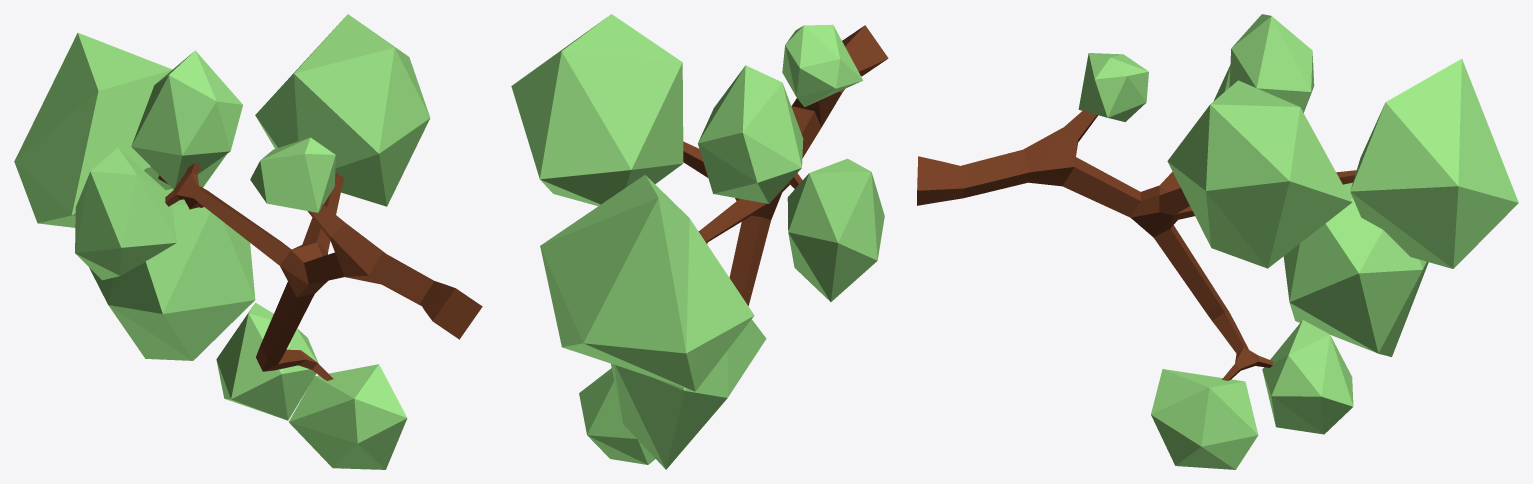
File: big_low_poly_tree.fbx
3 views of the same model, side by side, from view 1: azimuth 30°, elevation 25°; view 2: azimuth 150°, elevation 25°; view 3: azimuth 270°, elevation 25° (orthographic). The views are drawn at different scales.
Visible parts, largest first — view 1: low_poly_tree; view 2: low_poly_tree; view 3: low_poly_tree.
Boxes of the visible parts, x1,y1,x2,y2 form: low_poly_tree: (14, 14, 482, 469); low_poly_tree: (511, 14, 888, 469); low_poly_tree: (917, 14, 1518, 469).
Bounding box in the file's own units: 14374 × 16481 × 23015.
